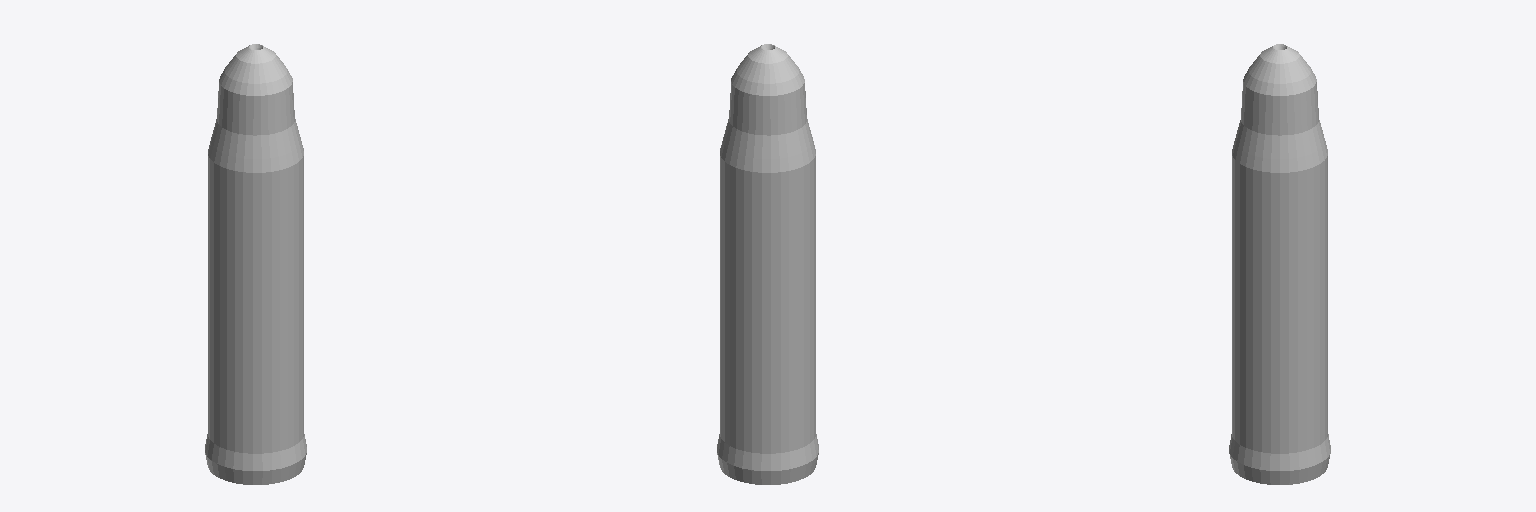
File: shell.obj
3 views of the same model, side by side, from view 1: azimuth 30°, elevation 25°; view 2: azimuth 150°, elevation 25°; view 3: azimuth 270°, elevation 25° (orthographic).
Parts seen in each view (by area): view 1: Cylinder; view 2: Cylinder; view 3: Cylinder.
Part boxes in pixels (x1,y1,x2,y2): Cylinder: (205, 44, 306, 484); Cylinder: (717, 44, 818, 484); Cylinder: (1229, 44, 1330, 484).
Size of the model in its own units: 0.1963 by 0.8803 by 0.1963.